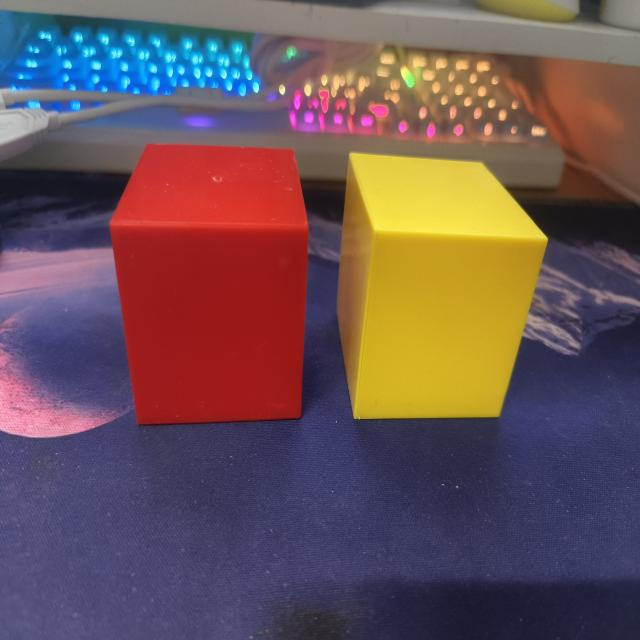red: (109, 145, 310, 428)
yellow: (336, 152, 548, 422)
